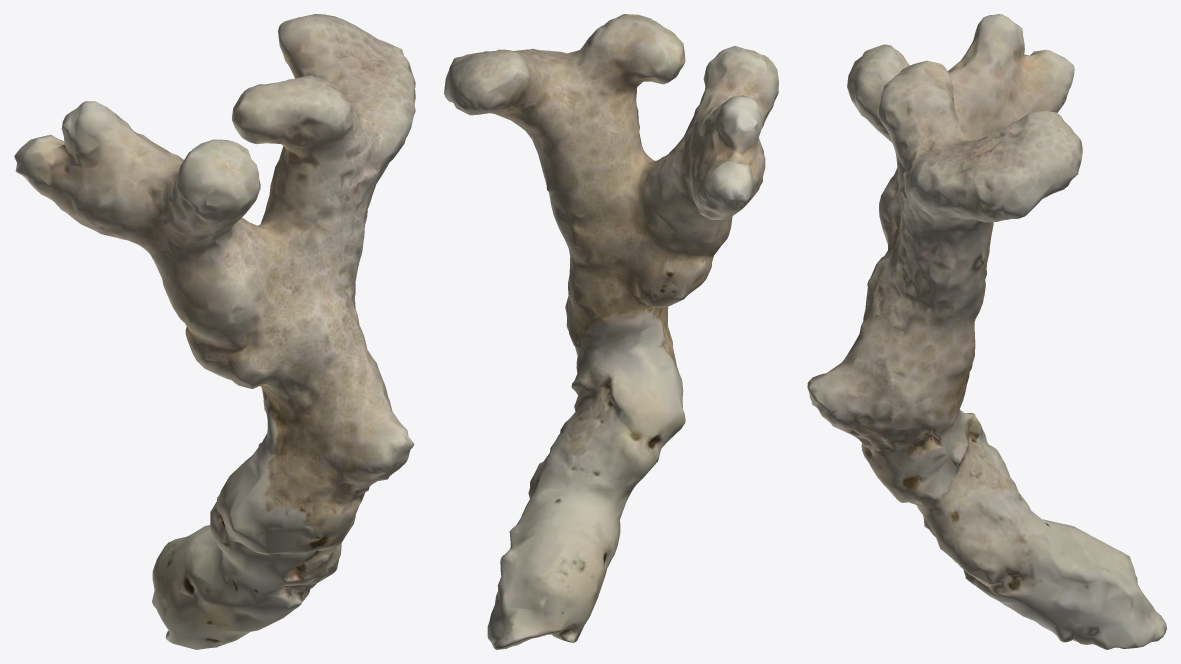
The model's file is coral_porites.glb.
The picture shows the model from 3 angles, left to right: view 1: azimuth 30°, elevation 25°; view 2: azimuth 150°, elevation 25°; view 3: azimuth 270°, elevation 25°; orthographic projection. The views are drawn at different scales.
Size of the model in its own units: 0.0315 by 0.0519 by 0.03.
1 material, 1 textured.
